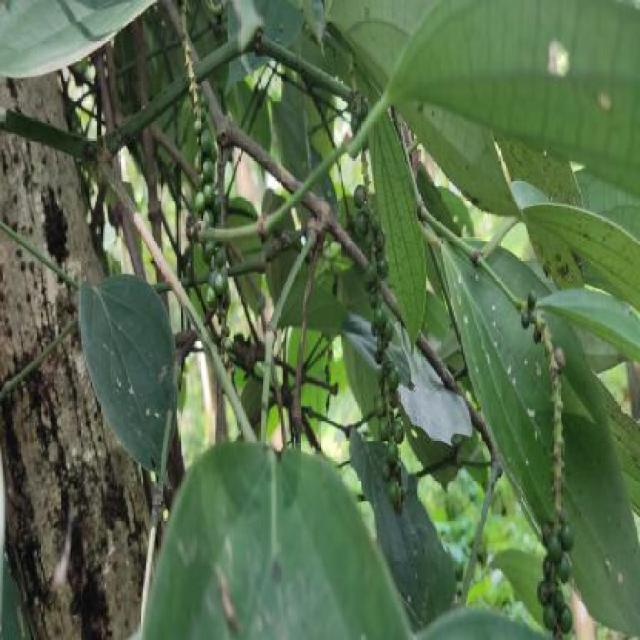UNRIPE: (349, 93, 406, 515), (520, 293, 572, 632), (195, 88, 226, 303)
